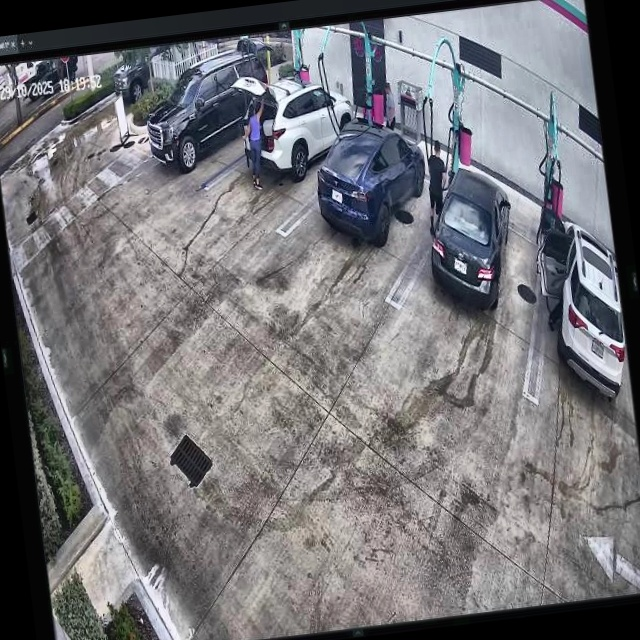Car: (138, 49, 277, 171), (313, 111, 434, 249), (423, 162, 523, 316), (232, 60, 359, 181)
